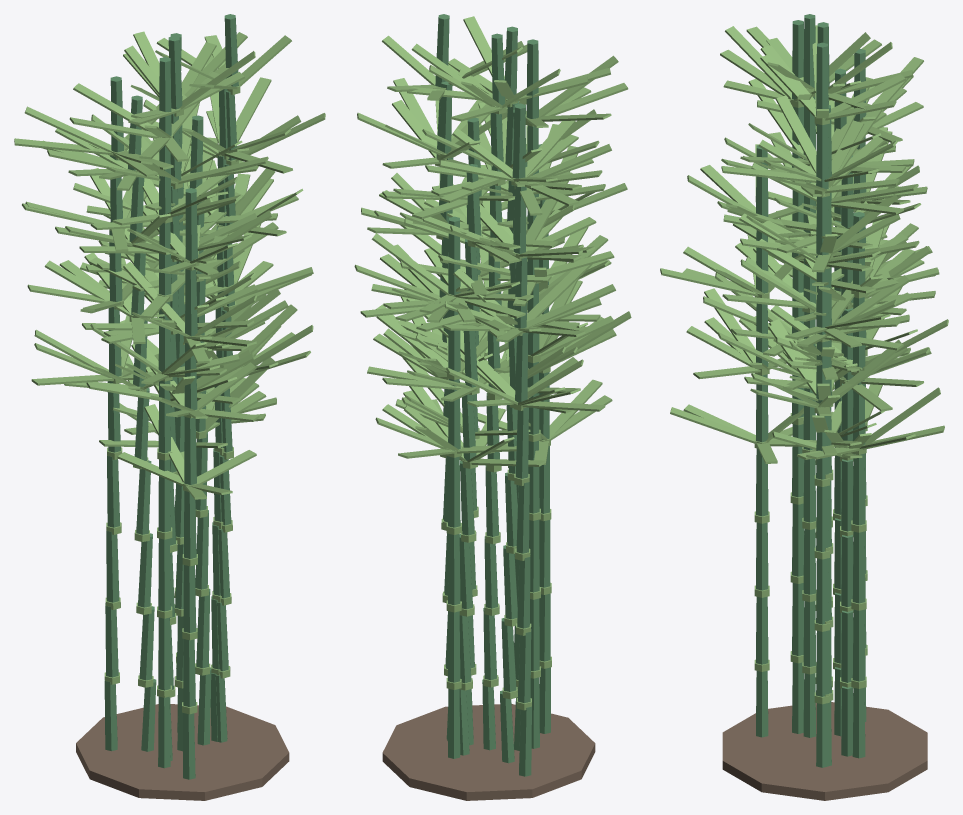
File: botanical-glasshouse-and-palm-house-botanical-glasshou-5298b114__38590.glb
The picture shows the model from 3 angles, left to right: view 1: azimuth 30°, elevation 25°; view 2: azimuth 150°, elevation 25°; view 3: azimuth 270°, elevation 25°; orthographic projection.
Visible parts, largest first — view 1: botanical-glasshouse-and-palm-house-bamboo-clump; view 2: botanical-glasshouse-and-palm-house-bamboo-clump; view 3: botanical-glasshouse-and-palm-house-bamboo-clump.
Boxes of the visible parts, x1,y1,x2,y2 form: botanical-glasshouse-and-palm-house-bamboo-clump: (14,14,325,800); botanical-glasshouse-and-palm-house-bamboo-clump: (354,14,631,800); botanical-glasshouse-and-palm-house-bamboo-clump: (660,14,948,800).
Size of the model in its own units: 1.19 by 3.3 by 1.18.
